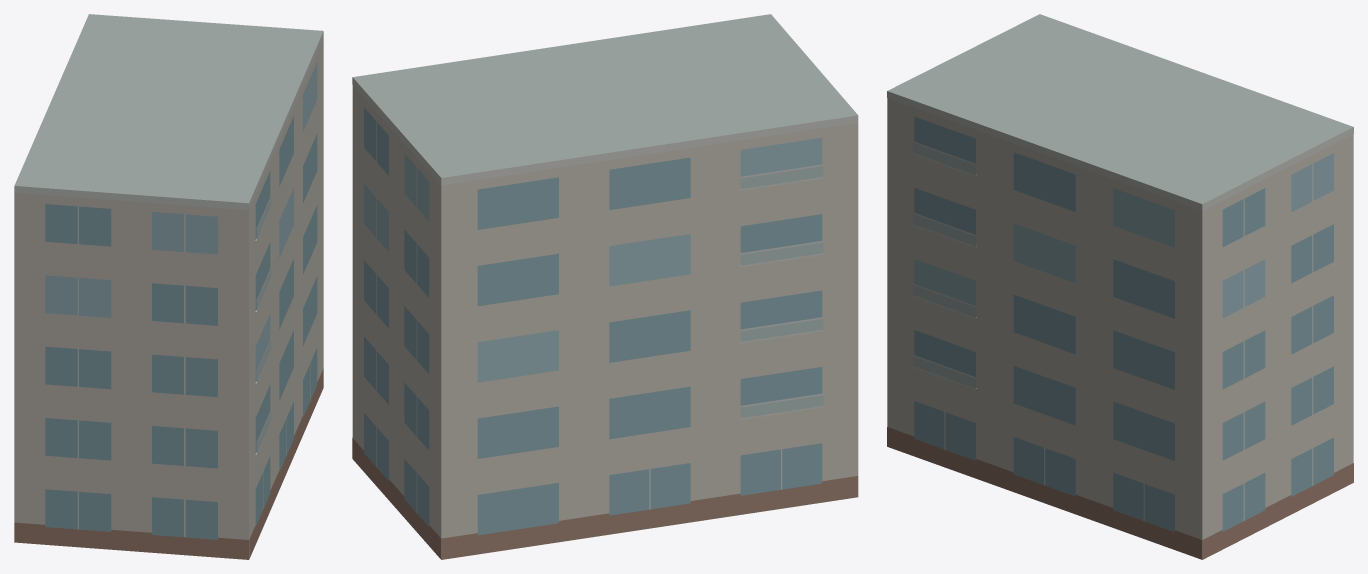
Rendered from survey-upis-33045781.glb.
3 renders of one model, left to right at view 1: azimuth 30°, elevation 25°; view 2: azimuth 150°, elevation 25°; view 3: azimuth 270°, elevation 25°, orthographic. The views are drawn at different scales.
Visible parts, largest first — view 1: survey-upis-33045781.tmp; view 2: survey-upis-33045781.tmp; view 3: survey-upis-33045781.tmp.
Part boxes in pixels (bbox=[...]): survey-upis-33045781.tmp: bbox=[14, 14, 323, 559]; survey-upis-33045781.tmp: bbox=[352, 14, 858, 559]; survey-upis-33045781.tmp: bbox=[887, 14, 1353, 559].
Bounding box in the file's own units: 14.46 × 12.6 × 14.99.
